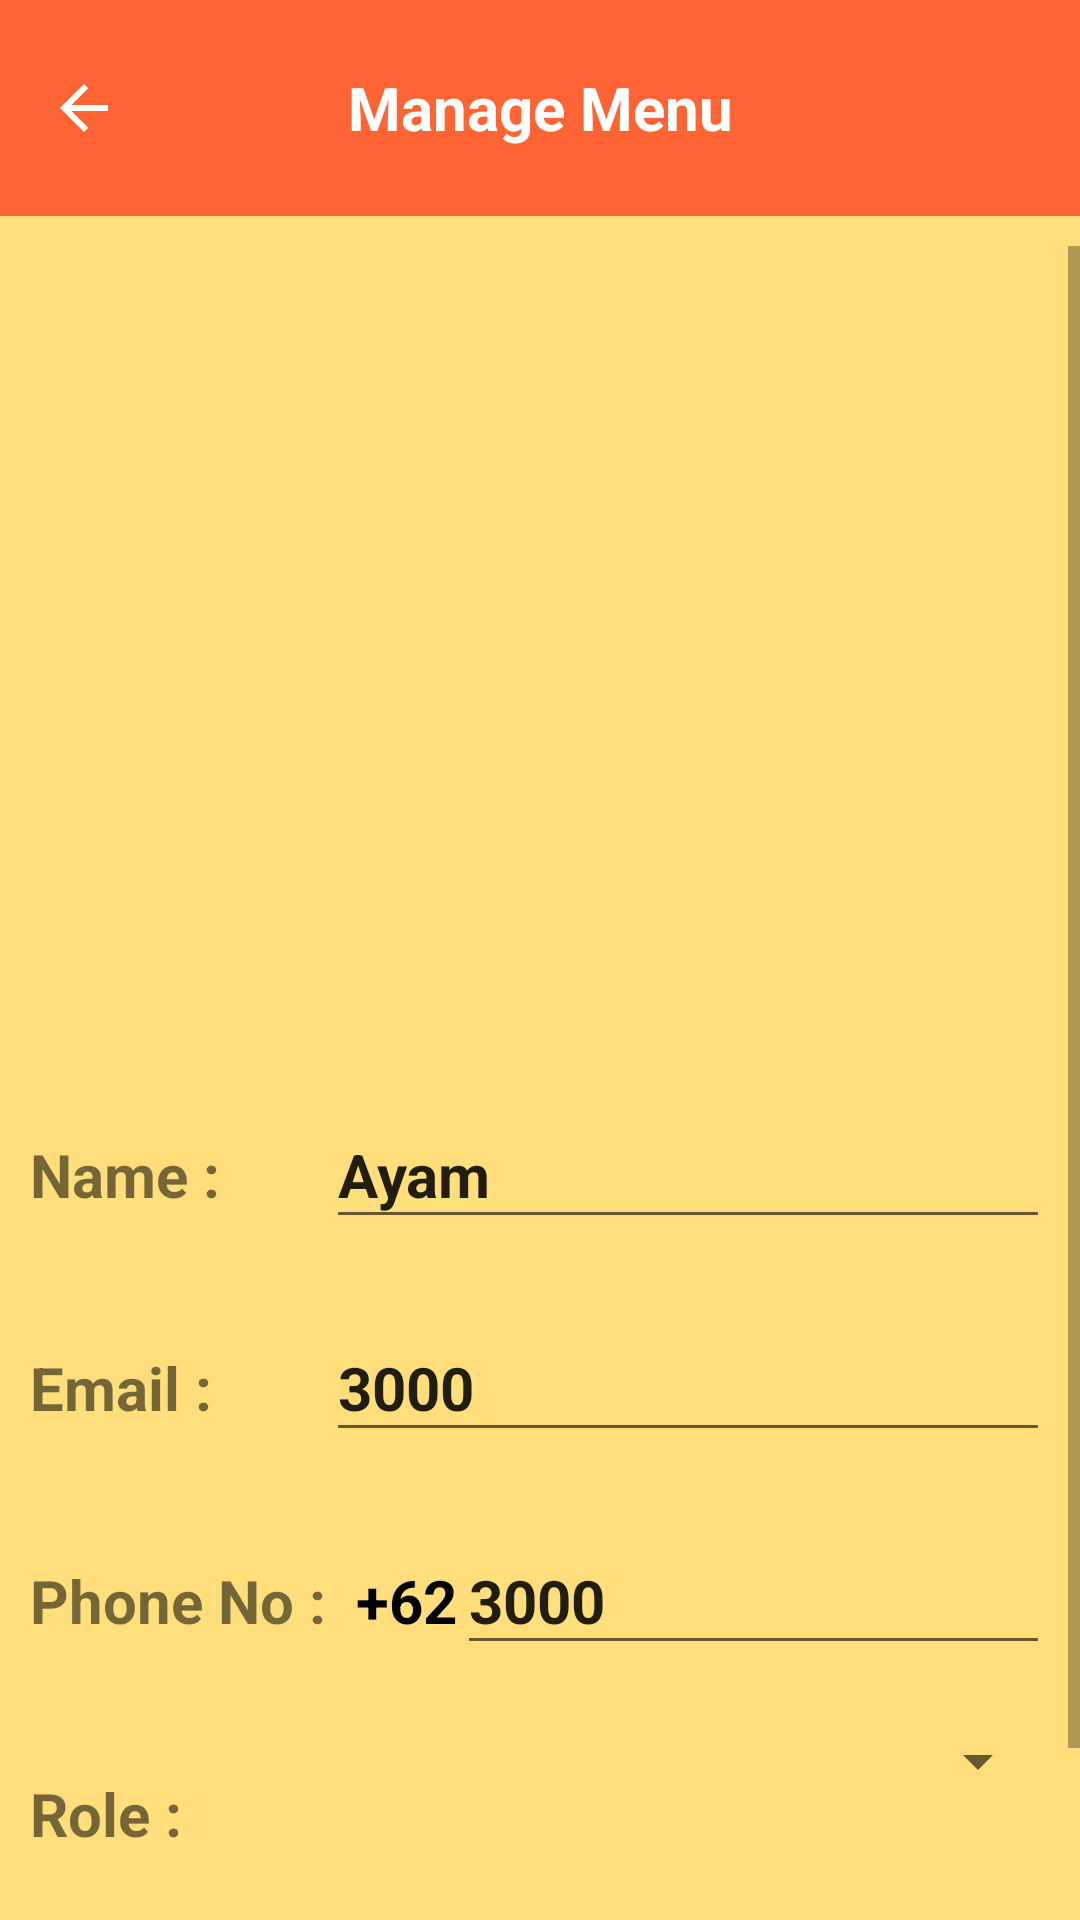

Named icons in this screenshot (1080 × 1920) and their centers, point (x, y):
Back: point (84, 108)
